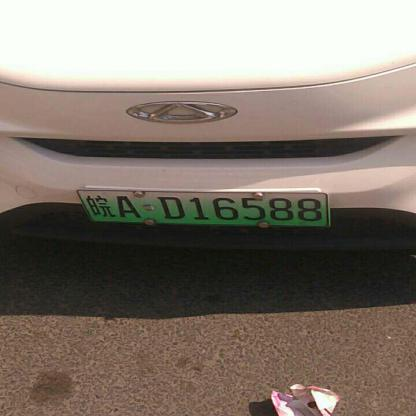lp: (76, 188, 329, 227)
